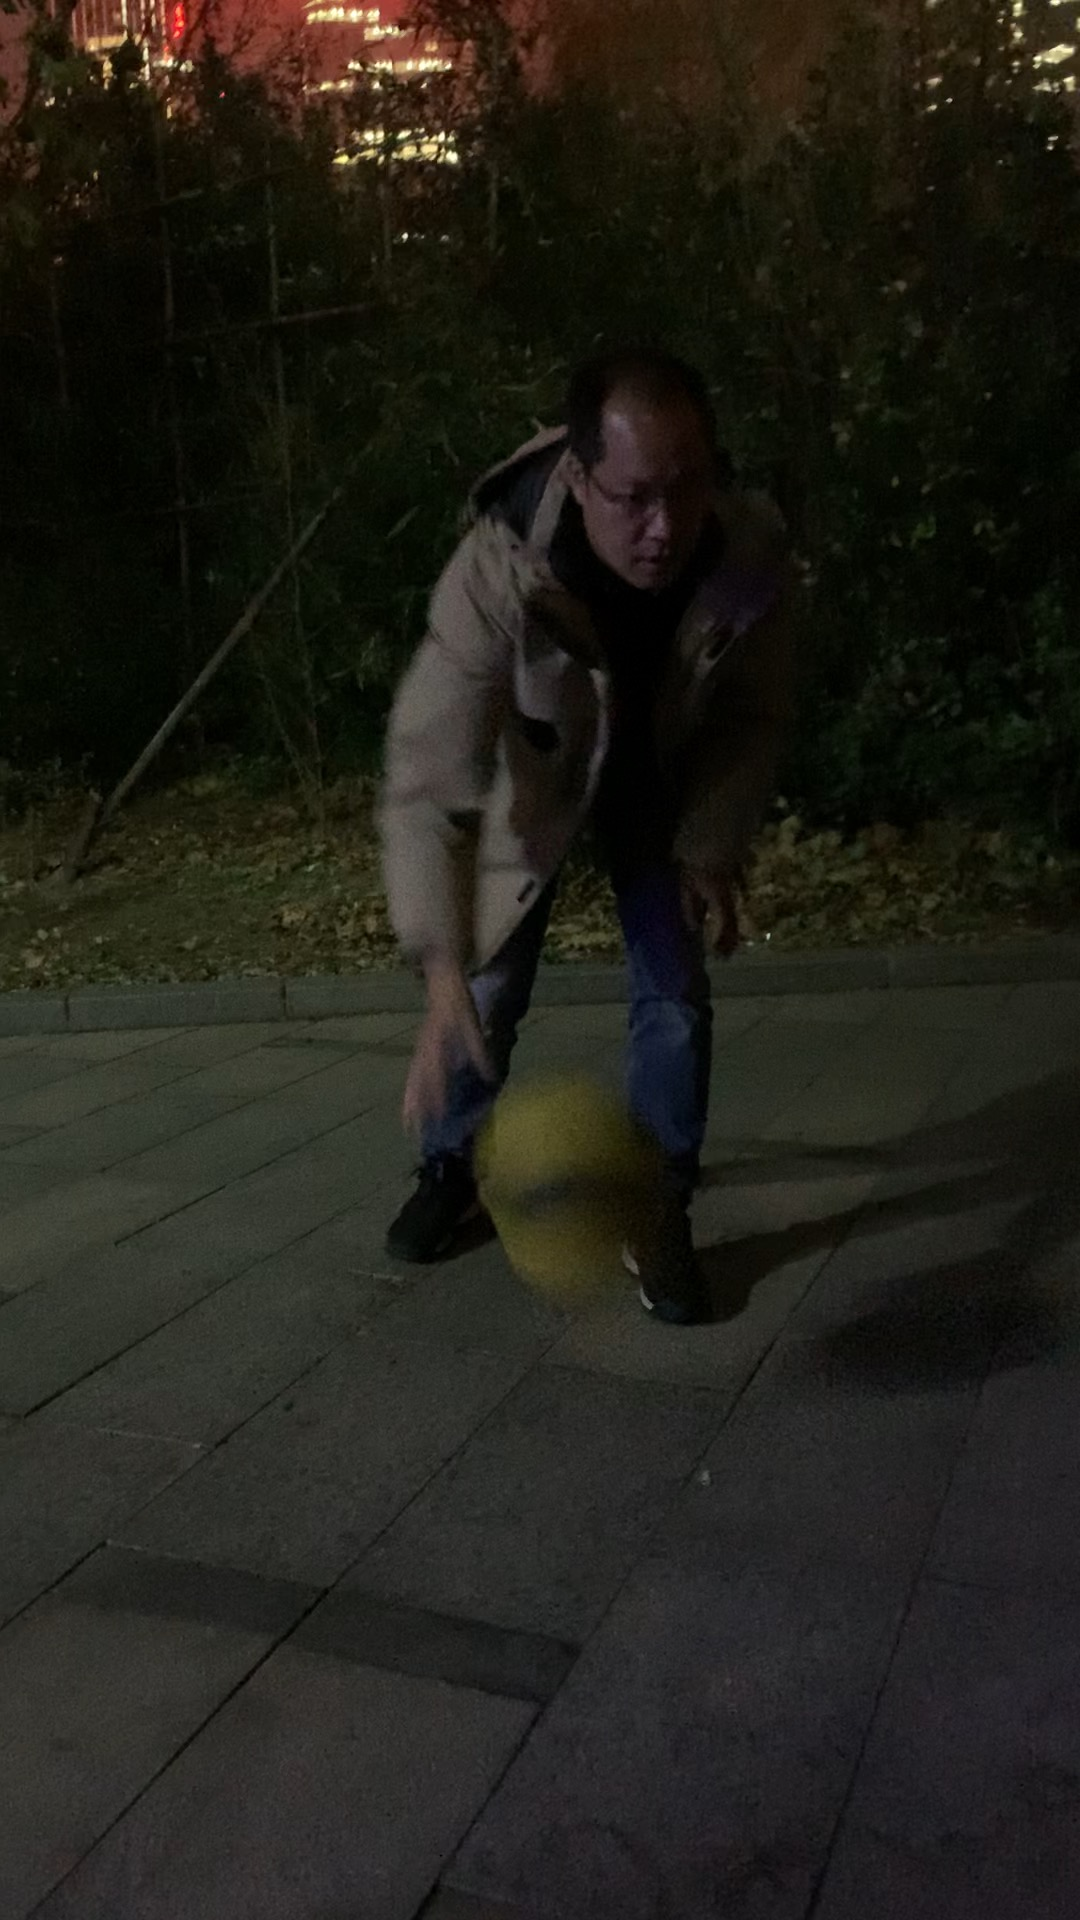ball: (483, 1072, 694, 1296)
